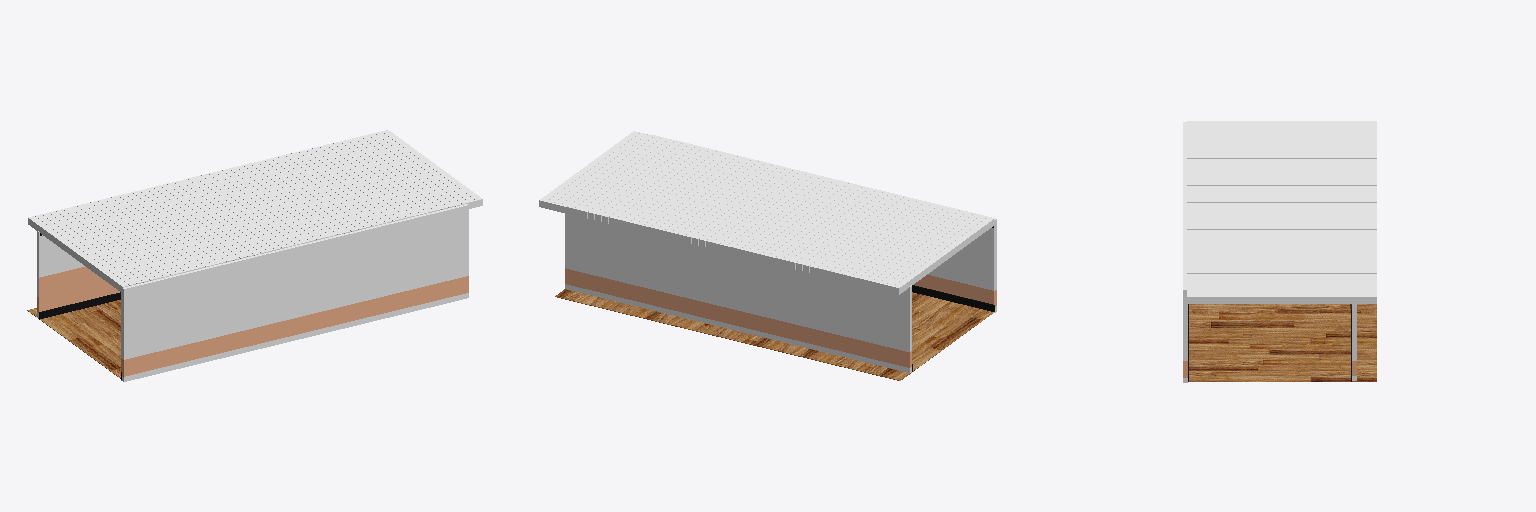
The picture shows the model from 3 angles: view 1: azimuth 30°, elevation 25°; view 2: azimuth 150°, elevation 25°; view 3: azimuth 270°, elevation 25°; orthographic projection.
Parts seen in each view (by area): view 1: 立方体.2, 立方体, 立方体.5, 立方体.2_0, 立方体.1, 立方体.2_50, 立方体.2_51, 立方体.2_49, 立方体.2_39, 立方体.2_46, 立方体.2_42, 立方体.2_26 (+28 smaller); view 2: 立方体.1, 立方体, 立方体.2, 立方体.2_0, 立方体.2_19, 立方体.2_49, 立方体.2_25, 立方体.2_42, 立方体.2_35, 立方体.2_32, 立方体.2_13, 立方体.2_6 (+28 smaller); view 3: 立方体, 立方体.2_51, 立方体.2, 立方体.2_50, 立方体.2_47, 立方体.2_44, 立方体.2_42, 立方体.2_39, 立方体.2_37, 立方体.2_34, 立方体.2_31, 立方体.2_29 (+28 smaller).
Part boxes in pixels (left/top/right/bottom): 立方体.2: left=121, top=204, right=468, bottom=381; 立方体: left=27, top=300, right=120, bottom=378; 立方体.5: left=39, top=266, right=119, bottom=311; 立方体.2_0: left=28, top=216, right=128, bottom=291; 立方体.1: left=37, top=231, right=84, bottom=317; 立方体.2_50: left=375, top=131, right=475, bottom=208; 立方体.2_51: left=382, top=130, right=482, bottom=206; 立方体.2_49: left=368, top=133, right=468, bottom=204; 立方体.2_39: left=299, top=150, right=399, bottom=221; 立方体.2_46: left=348, top=138, right=447, bottom=209; 立方体.2_42: left=319, top=145, right=420, bottom=216; 立方体.2_26: left=208, top=172, right=309, bottom=243; 立方体.1: left=565, top=213, right=911, bottom=372; 立方体: left=555, top=289, right=993, bottom=380; 立方体.2: left=651, top=134, right=996, bottom=312; 立方体.2_0: left=893, top=217, right=993, bottom=294; 立方体.2_19: left=761, top=185, right=861, bottom=262; 立方体.2_49: left=553, top=134, right=653, bottom=211; 立方体.2_25: left=719, top=175, right=820, bottom=252; 立方体.2_42: left=602, top=146, right=701, bottom=223; 立方体.2_35: left=650, top=158, right=750, bottom=235; 立方体.2_32: left=671, top=163, right=771, bottom=240; 立方体.2_13: left=803, top=195, right=903, bottom=272; 立方体.2_6: left=851, top=207, right=951, bottom=284; 立方体: left=1189, top=304, right=1376, bottom=381; 立方体.2_51: left=1187, top=294, right=1376, bottom=303; 立方体.2: left=1183, top=122, right=1187, bottom=382; 立方体.2_50: left=1187, top=290, right=1376, bottom=293; 立方体.2_47: left=1187, top=280, right=1376, bottom=283; 立方体.2_44: left=1187, top=270, right=1376, bottom=273; 立方体.2_42: left=1187, top=263, right=1376, bottom=266; 立方体.2_39: left=1187, top=253, right=1376, bottom=256; 立方体.2_37: left=1187, top=246, right=1376, bottom=249; 立方体.2_34: left=1187, top=236, right=1376, bottom=239; 立方体.2_31: left=1187, top=226, right=1376, bottom=229; 立方体.2_29: left=1187, top=219, right=1376, bottom=222.
Size of the model in its own units: 729 by 181 by 338.
9 materials, 5 textured.